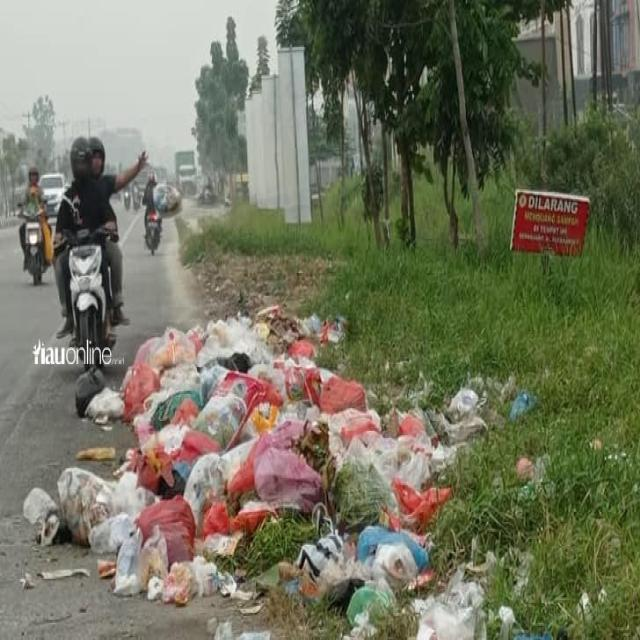trash: (138, 341, 497, 640)
